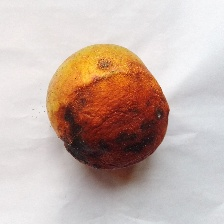guava: (21, 41, 182, 218)
